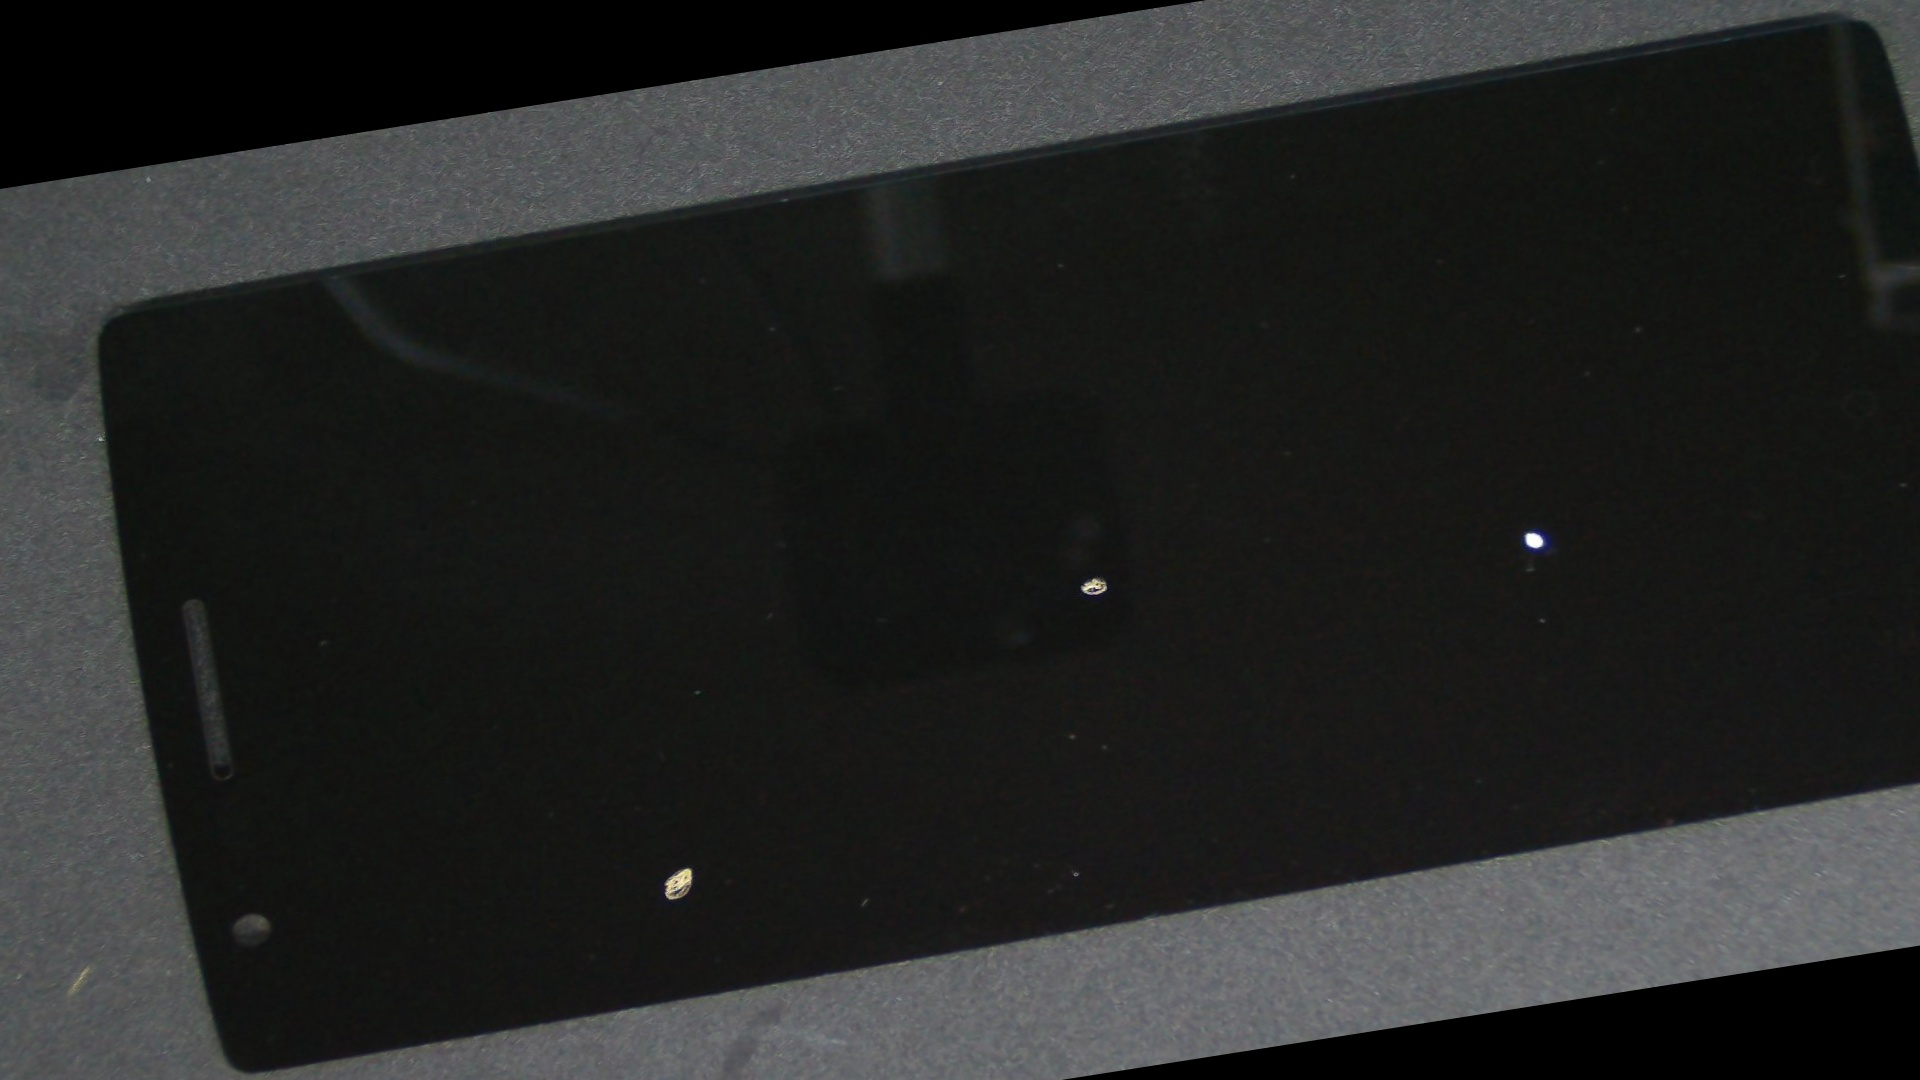oil: (691, 152, 1920, 939), (473, 215, 1700, 942), (272, 427, 1080, 1080)
